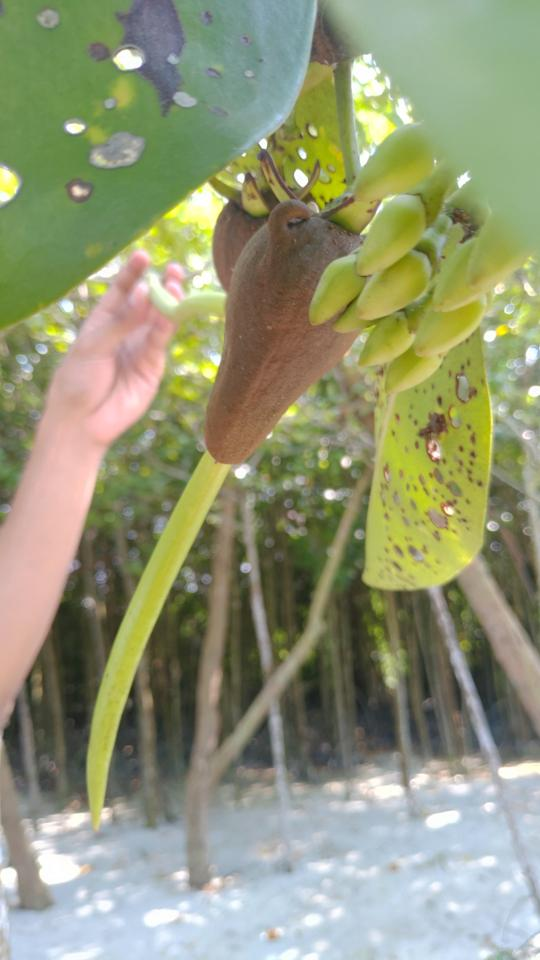mentah: (67, 152, 382, 838)
